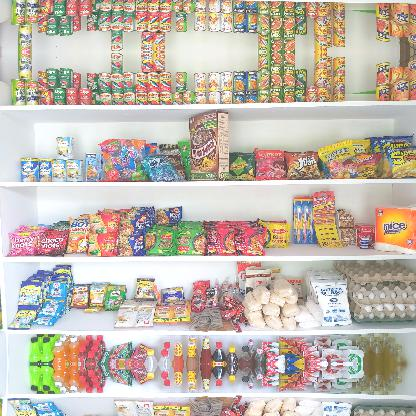Koko-Krunch: (189, 110, 229, 180)
